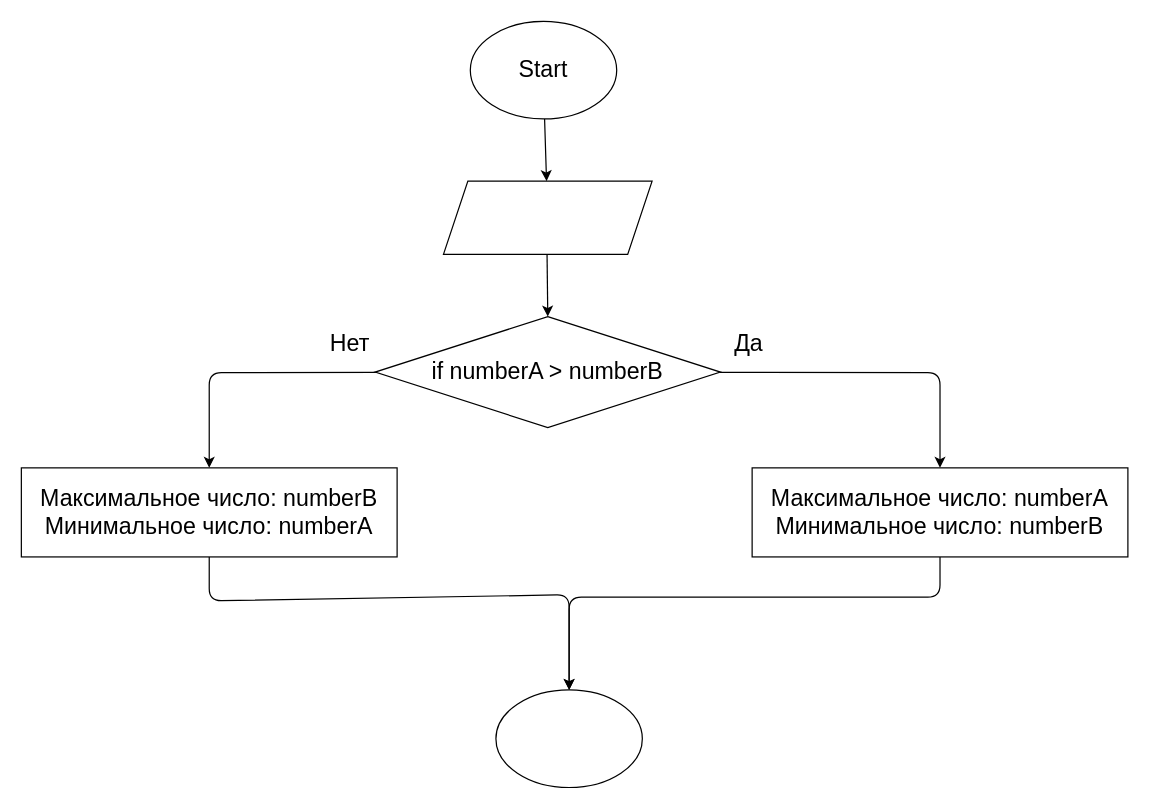
Some shapes in this 1149 by 809 pixel diagram are drawn without their labels. Here are the shapes that lost their labels. From the top down, the centre of each, then its label:
(x=547, y=217): numberA numberB
(x=568, y=738): End
